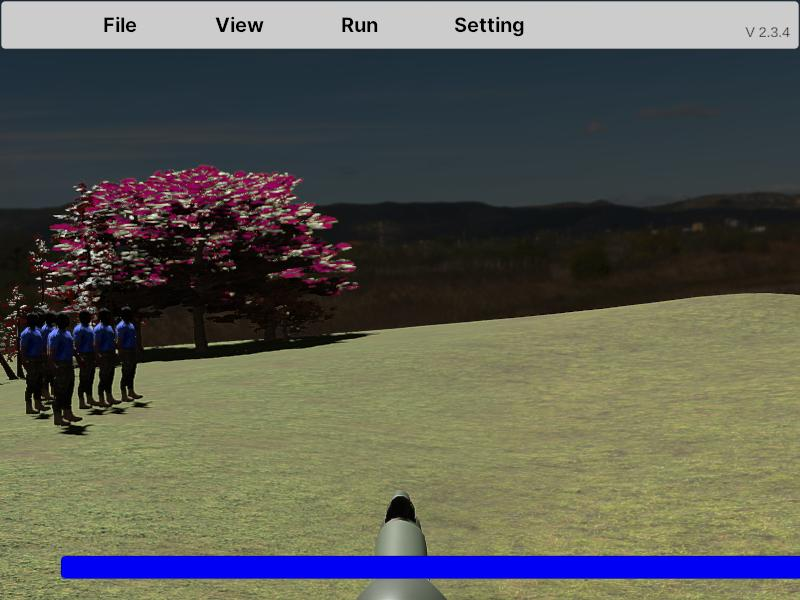Human: (47, 313, 86, 425), (19, 309, 50, 415), (115, 304, 144, 402), (73, 310, 101, 410), (94, 308, 120, 406)
